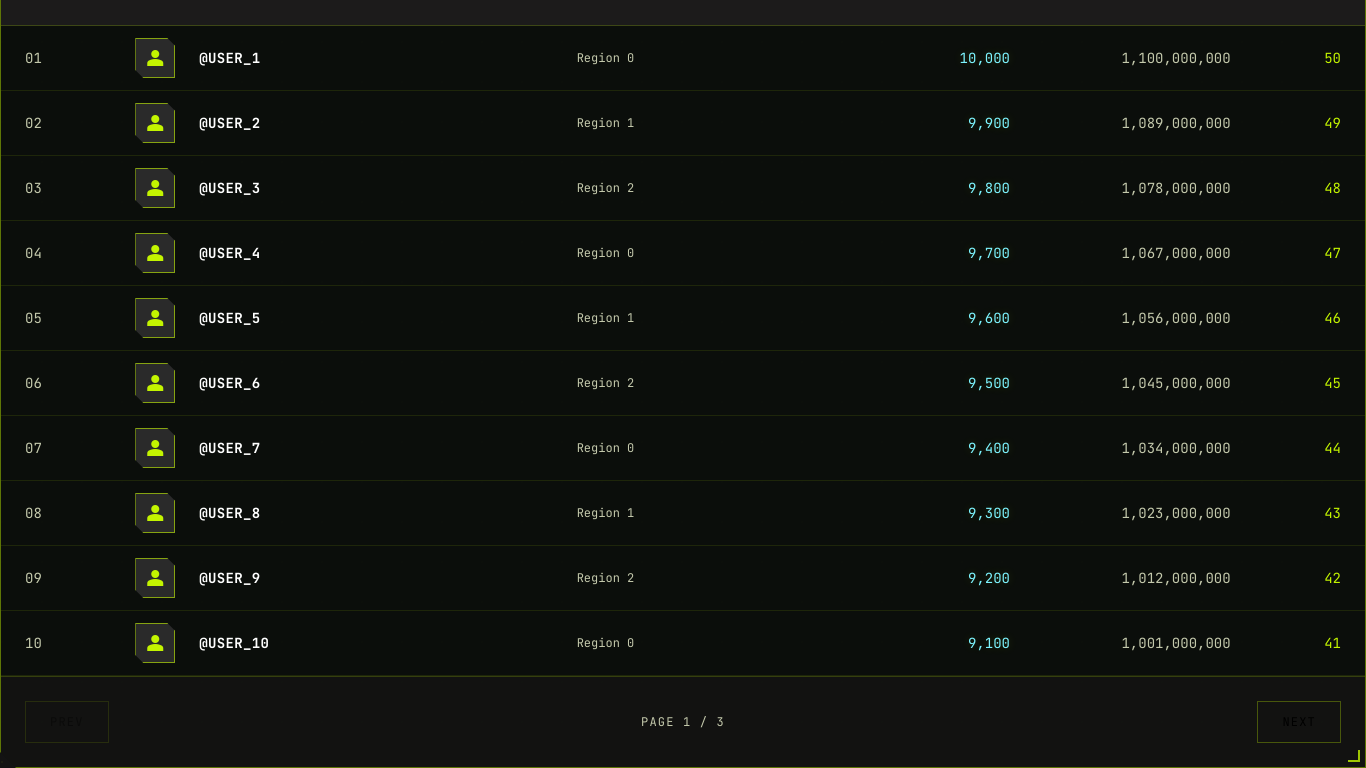
Test: RankTable › next advances page
(page scrolled)
Click the button with test id "next-page".
click(1299, 722)  # box [1257,701,1341,743]
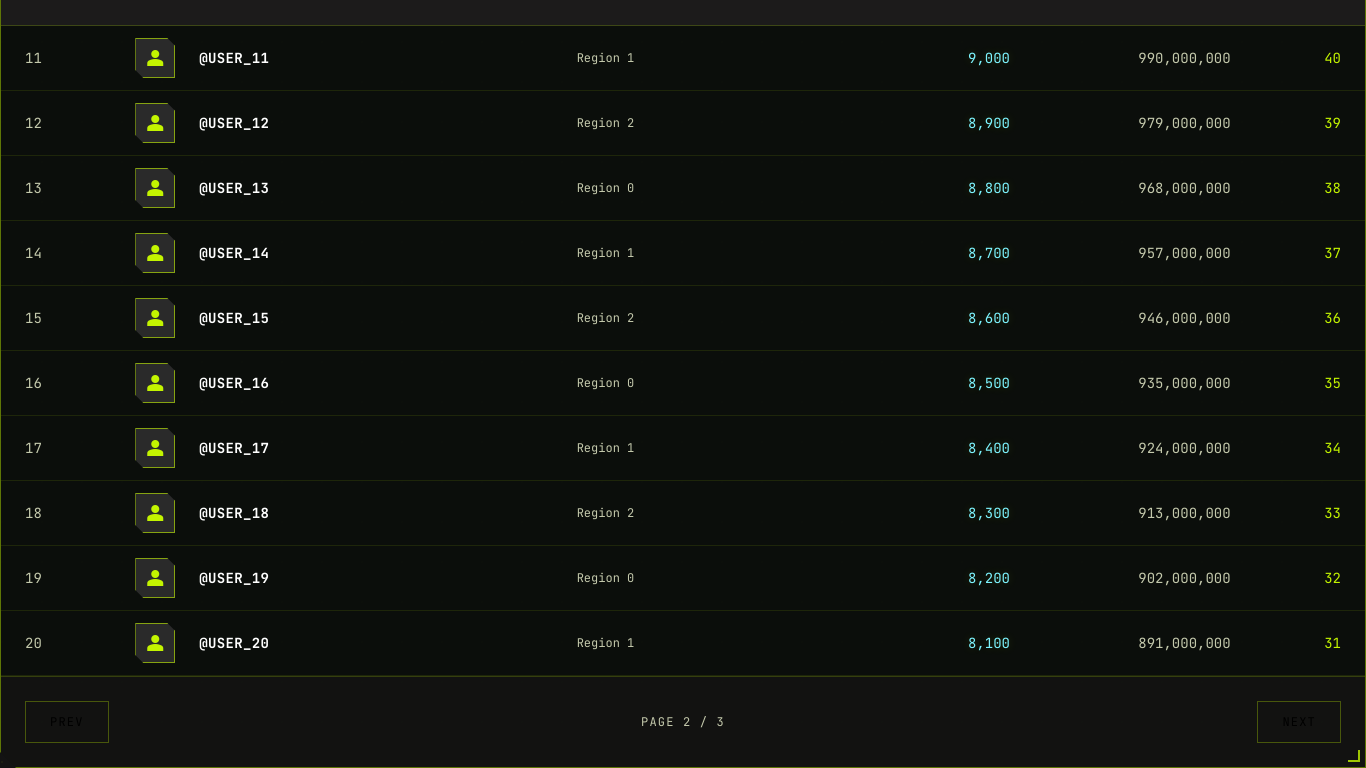
Expected: the text with test id "page-indicator" reads "Page 2 / 3", [641,714,725,730]
